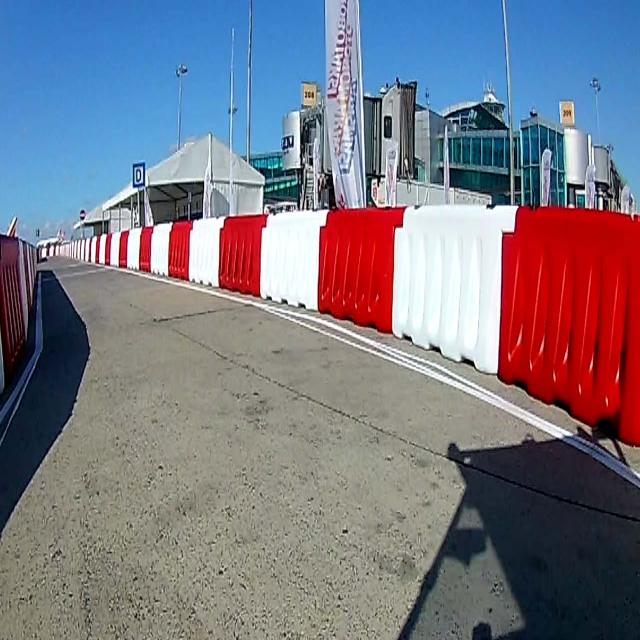durak: (133, 161, 145, 188)
